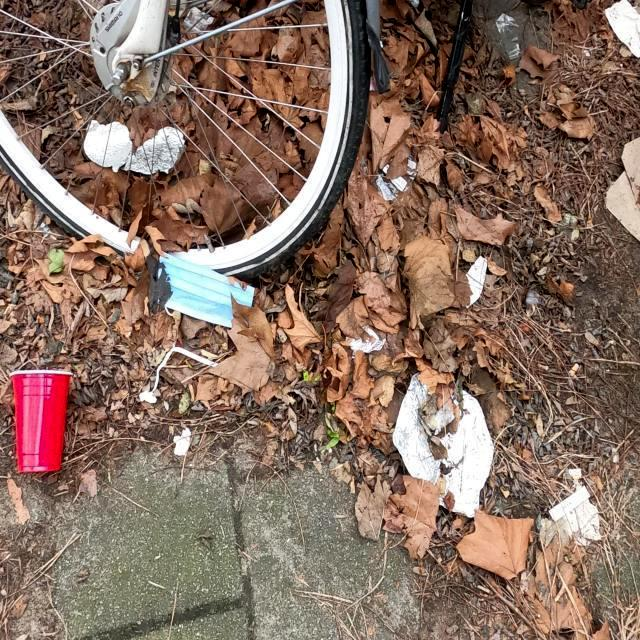Coffee Cup: (7, 366, 75, 474)
Mask: (156, 250, 256, 328)
Paper: (562, 497, 602, 547), (539, 516, 569, 548), (172, 426, 192, 456)
